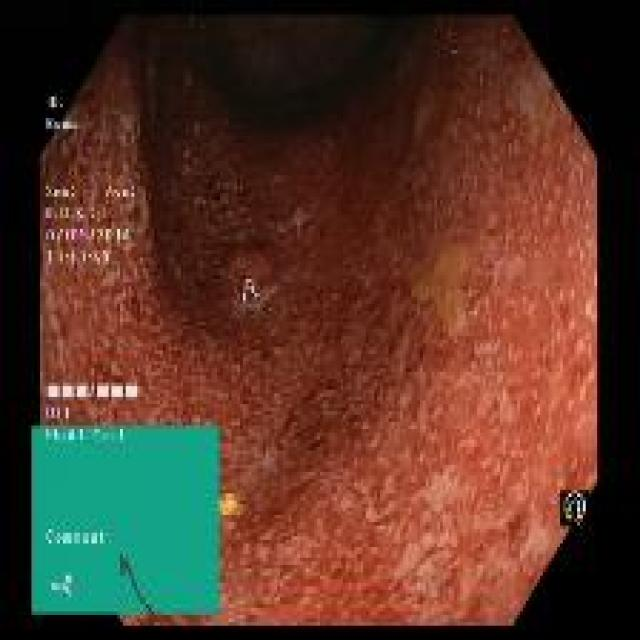ulcerative-colitis: (40, 17, 598, 624)
